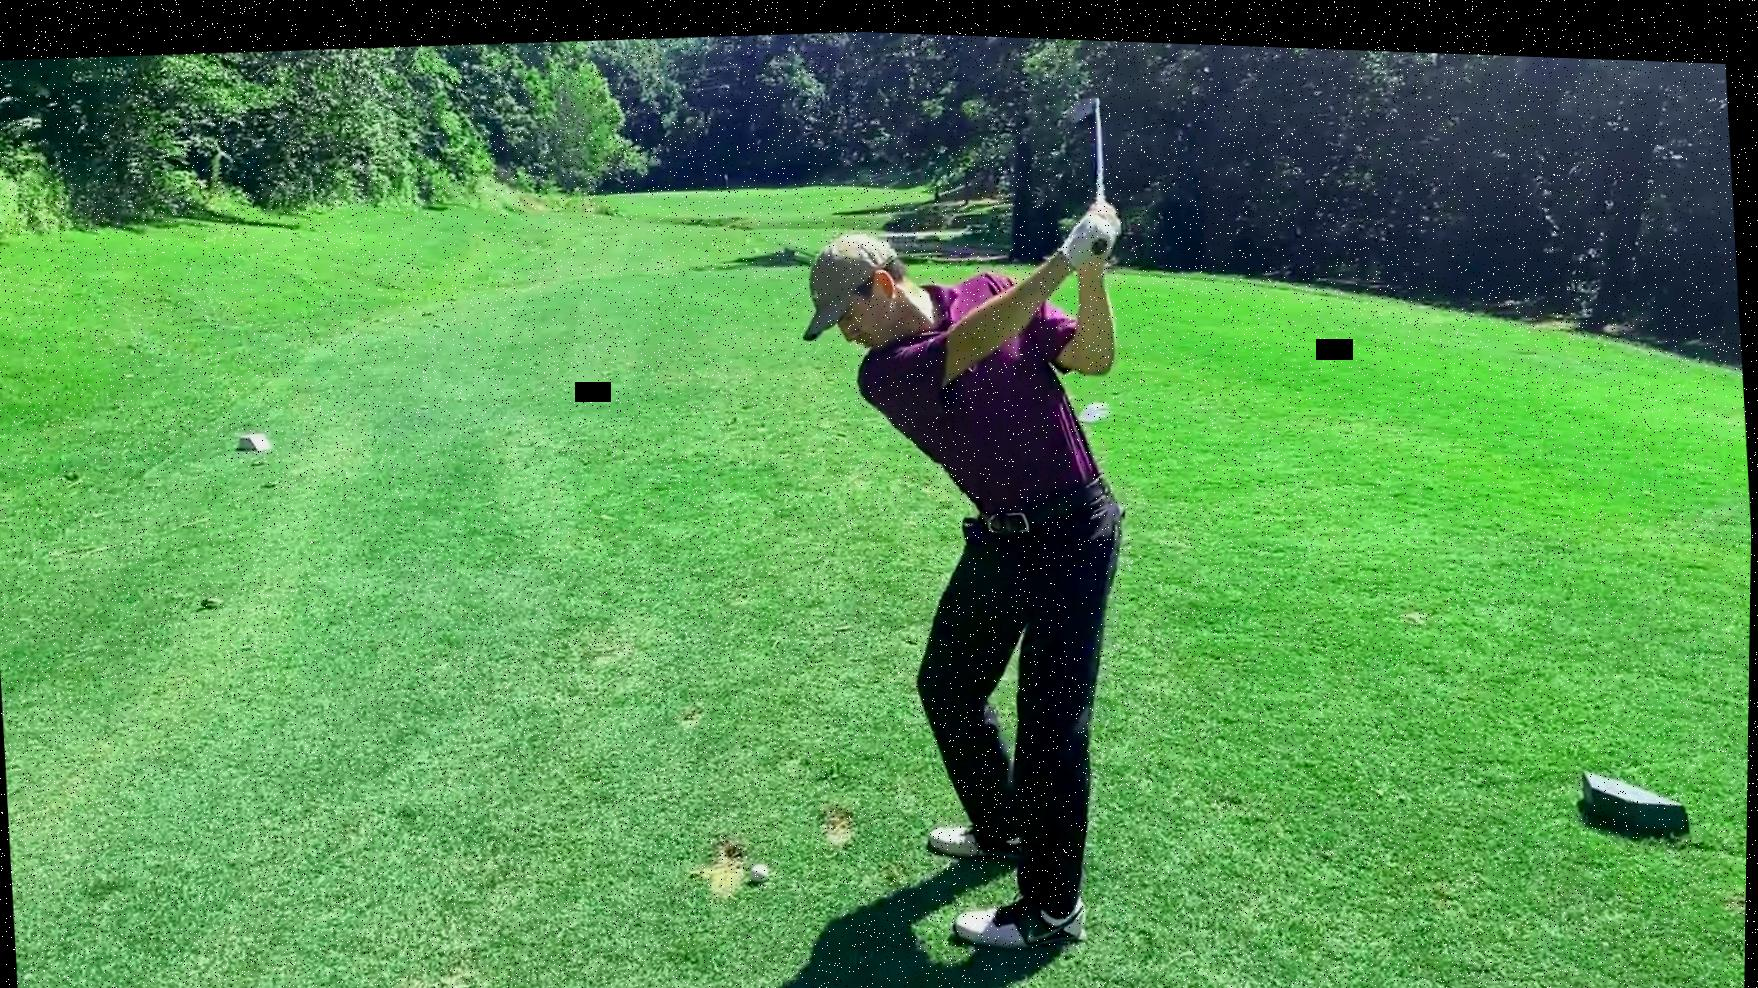ClubHead: (1067, 85, 1105, 122)
GolfBall: (750, 854, 775, 881)
